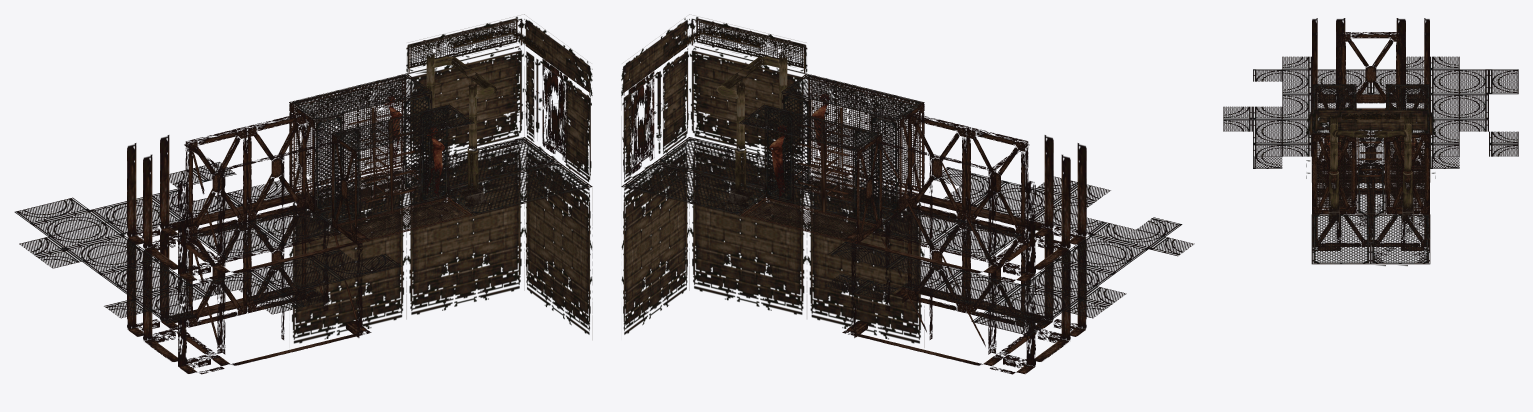
The picture shows the model from 3 angles, left to right: view 1: azimuth 30°, elevation 25°; view 2: azimuth 150°, elevation 25°; view 3: azimuth 270°, elevation 25°; orthographic projection. The views are drawn at different scales.
Visible parts, largest first — view 1: N_BACK2_m0, N_BACK2_m6, N_BACK2_m1, N_m1, N_BACK2_m5, N_BACK2_m3, KOS_HIDE#1_m0, KOS_HIDE_m0, BOX_HIDE_m0, KSI_BACK#8_m0, KSI_BACK#7_m0, KSI_BACK#2_m0 (+12 smaller); view 2: N_BACK2_m0, N_BACK2_m6, N_BACK2_m1, N_m1, N_BACK2_m4, N_BACK2_m5, KOS_HIDE#1_m0, KOS_HIDE_m0, BOX_HIDE_m0, KSI_BACK#10_m0, KSI_BACK#9_m0, N_m0 (+13 smaller); view 3: N_BACK2_m6, N_BACK2_m1, N_m1, N_BACK0_m1, N_BACK2_m0, KOS_HIDE#1_m0, N_m0, KSI_BACK#11_m0, KOUSIX_H#4_m0, KOUSIX_H#5_m0, N_BACK2_m5, KSI_BACK_m0 (+8 smaller).
Part boxes in pixels (left/top/right/bottom): N_BACK2_m0: left=289, top=26, right=592, bottom=343; N_BACK2_m6: left=14, top=162, right=401, bottom=323; N_BACK2_m1: left=407, top=19, right=592, bottom=215; N_m1: left=289, top=73, right=474, bottom=225; N_BACK2_m5: left=290, top=74, right=472, bottom=243; N_BACK2_m3: left=406, top=16, right=524, bottom=162; KOS_HIDE#1_m0: left=127, top=135, right=371, bottom=282; KOS_HIDE_m0: left=127, top=230, right=371, bottom=374; BOX_HIDE_m0: left=191, top=207, right=339, bottom=259; KSI_BACK#8_m0: left=185, top=127, right=247, bottom=235; KSI_BACK#7_m0: left=244, top=112, right=306, bottom=220; KSI_BACK#2_m0: left=185, top=220, right=247, bottom=327; N_BACK2_m0: left=621, top=26, right=924, bottom=347; N_BACK2_m6: left=824, top=167, right=1194, bottom=335; N_BACK2_m1: left=621, top=18, right=806, bottom=215; N_m1: left=739, top=73, right=924, bottom=225; N_BACK2_m4: left=689, top=15, right=807, bottom=161; N_BACK2_m5: left=741, top=76, right=924, bottom=243; KOS_HIDE#1_m0: left=843, top=135, right=1086, bottom=282; KOS_HIDE_m0: left=842, top=230, right=1086, bottom=374; BOX_HIDE_m0: left=874, top=207, right=1022, bottom=259; KSI_BACK#10_m0: left=966, top=127, right=1028, bottom=235; KSI_BACK#9_m0: left=907, top=112, right=969, bottom=220; N_m0: left=727, top=51, right=795, bottom=207; N_BACK2_m6: left=1223, top=56, right=1518, bottom=168; N_BACK2_m1: left=1311, top=214, right=1430, bottom=265; N_m1: left=1312, top=84, right=1430, bottom=214; N_BACK0_m1: left=1312, top=133, right=1429, bottom=211; N_BACK2_m0: left=1312, top=107, right=1429, bottom=133; KOS_HIDE#1_m0: left=1312, top=18, right=1429, bottom=170; N_m0: left=1328, top=113, right=1413, bottom=223; KSI_BACK#11_m0: left=1341, top=32, right=1400, bottom=110; KOUSIX_H#4_m0: left=1312, top=134, right=1356, bottom=214; KOUSIX_H#5_m0: left=1386, top=134, right=1429, bottom=214; N_BACK2_m5: left=1312, top=166, right=1429, bottom=213; KSI_BACK_m0: left=1312, top=164, right=1370, bottom=246.
Size of the model in its own units: 13.45 by 7.4 by 8.
Materials: 11 (11 with a texture image).
